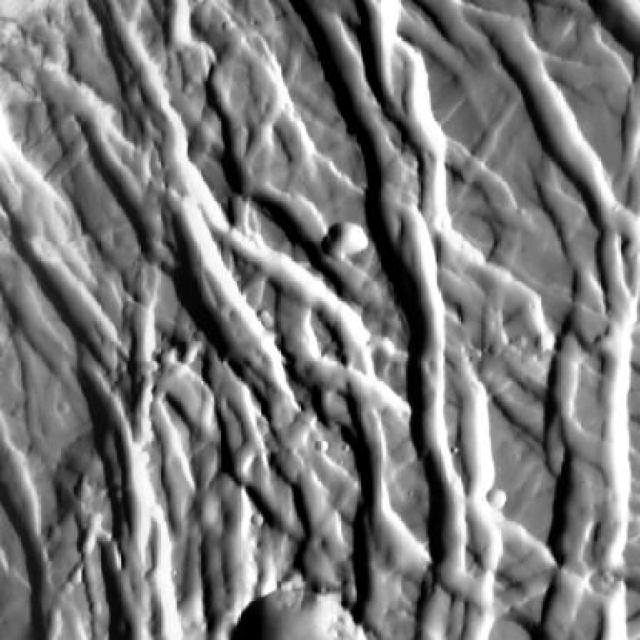crater: (489, 487, 509, 507)
